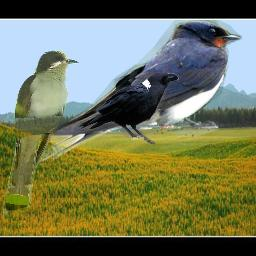Crow: (78, 72, 179, 145)
Cuckoo: (2, 50, 79, 223)
Swallow: (26, 20, 242, 170)
